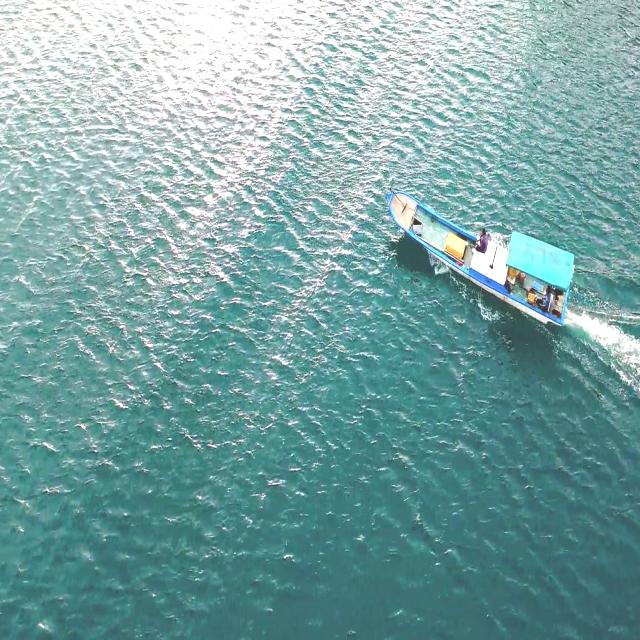ship: (383, 172, 580, 344)
